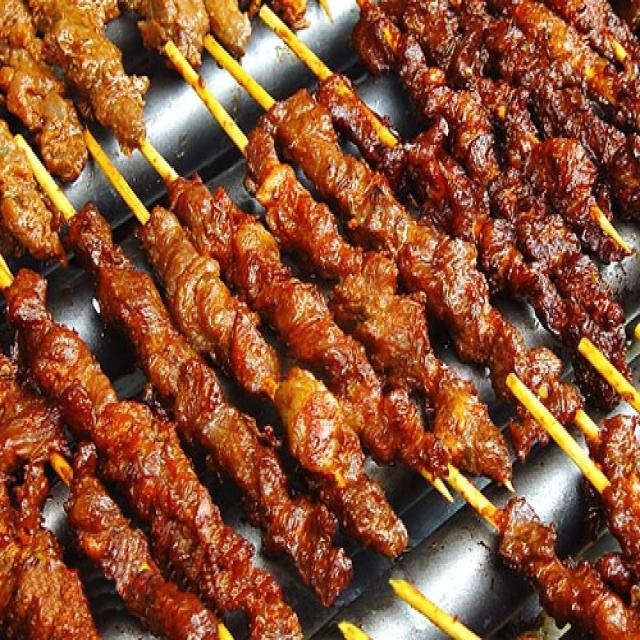烧串烤肉: (8, 16, 620, 626)
